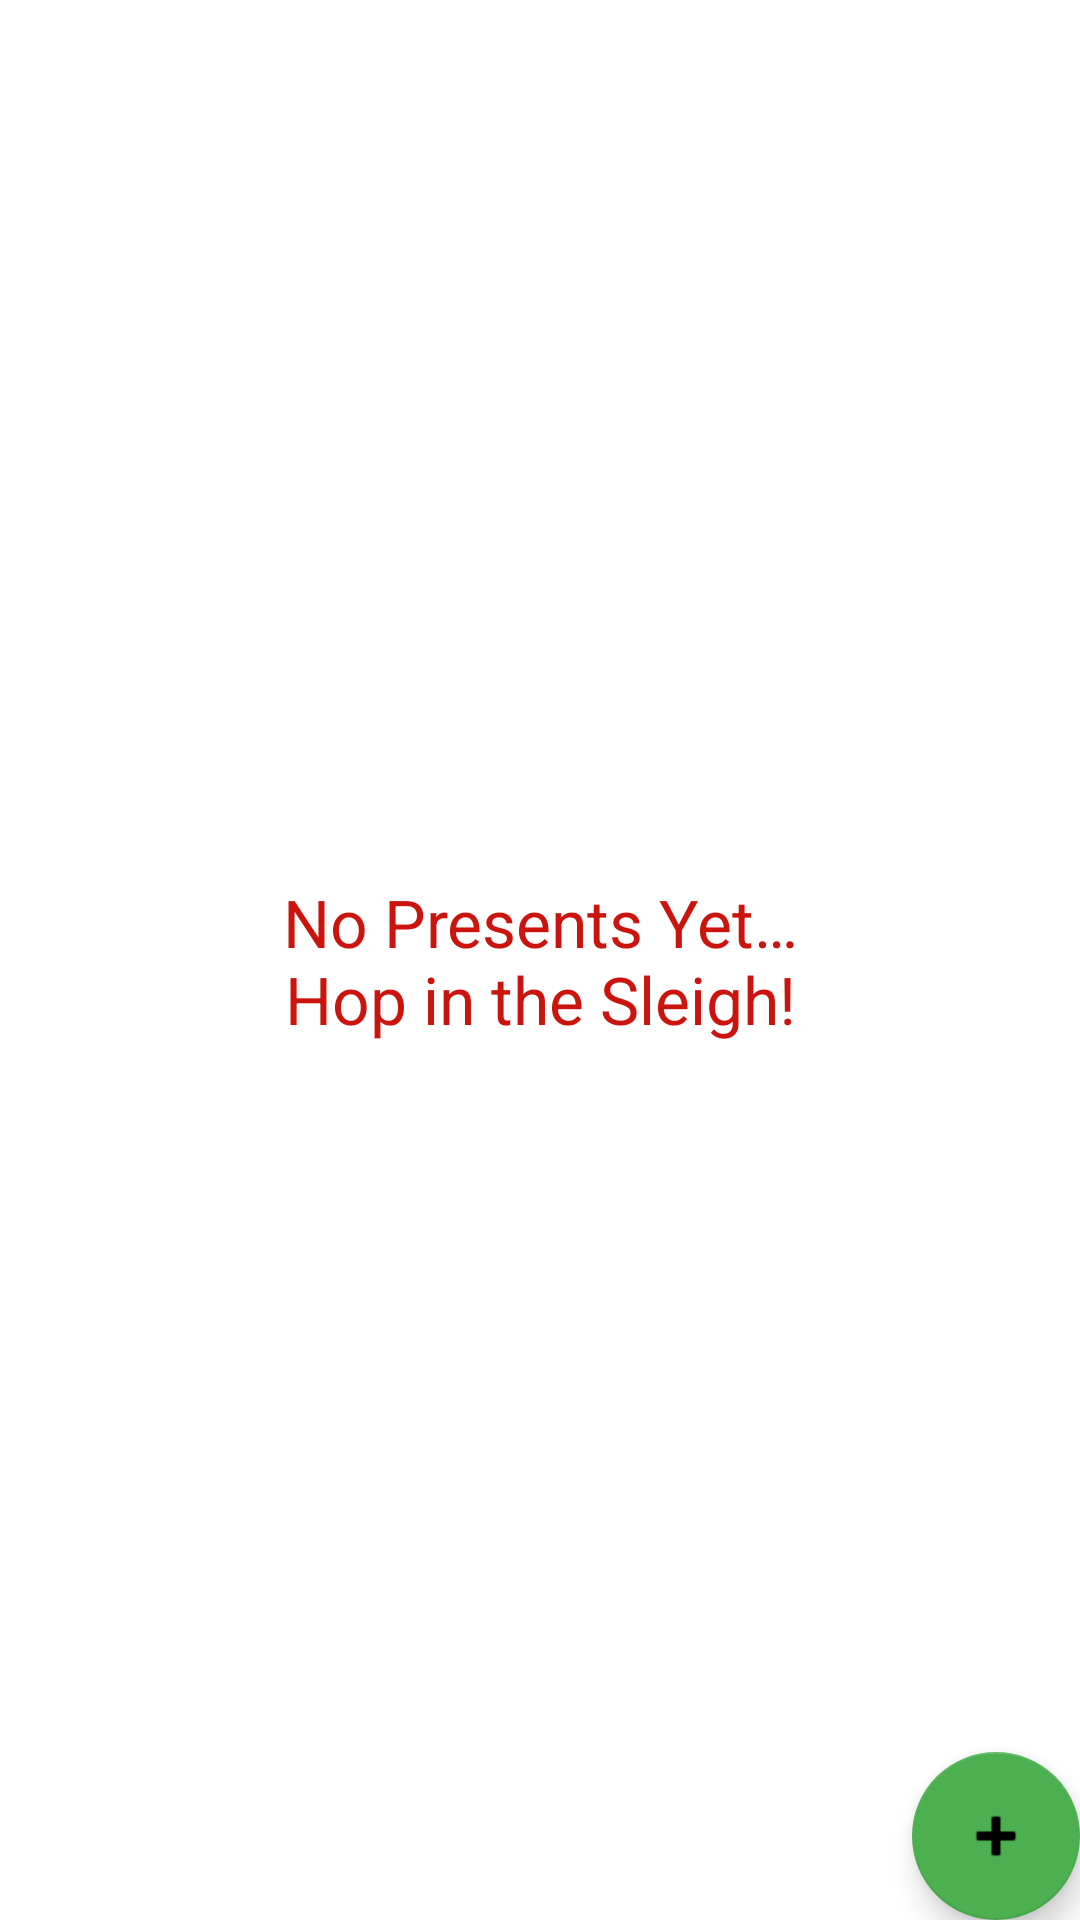

Where icons sit on this 1080px x 1920px app screen, as BBox(x1, y1, x2, y2):
Add Delivery Button: BBox(912, 1752, 1080, 1920)
